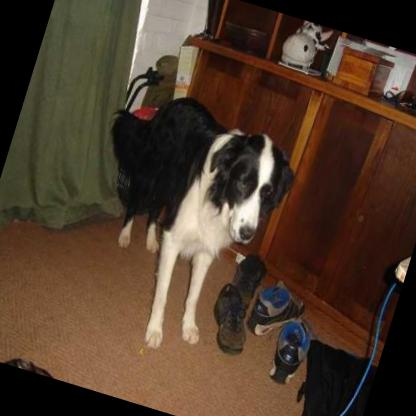Border_collie: (50, 73, 312, 373)
